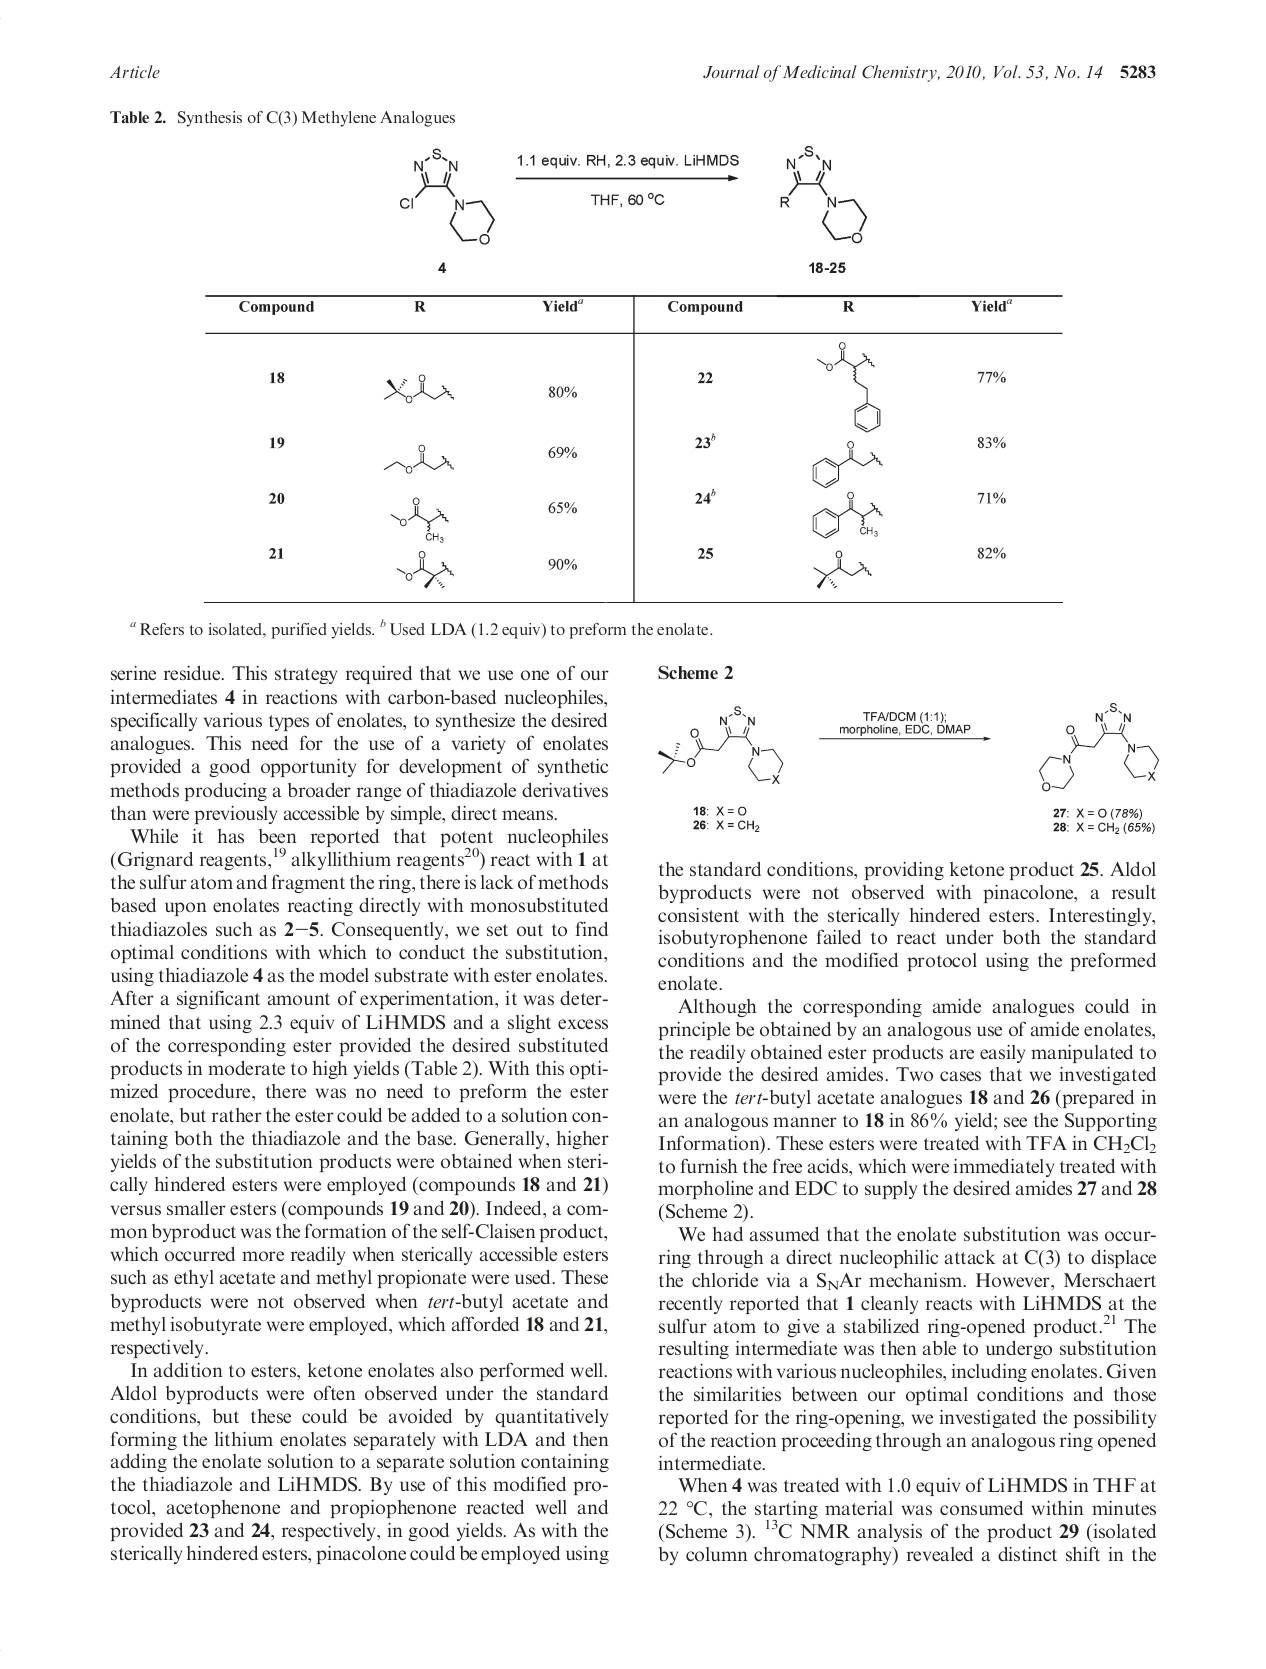exist_molecular: (1037, 700, 1161, 793), (657, 704, 786, 789), (398, 146, 497, 246), (775, 142, 870, 246), (817, 340, 882, 434), (809, 487, 884, 543), (809, 439, 884, 488), (390, 495, 449, 545), (811, 547, 872, 593), (392, 549, 455, 593), (382, 371, 455, 406), (382, 442, 455, 476)
